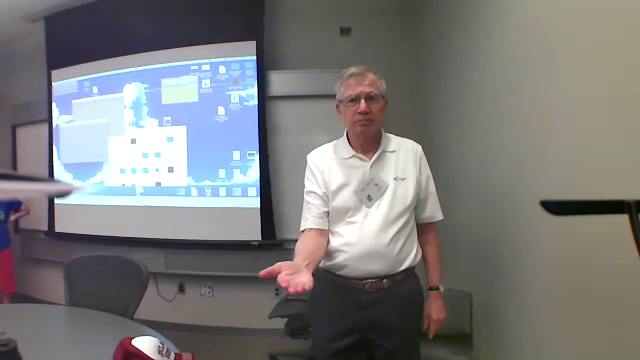land: (253, 255, 323, 299)
